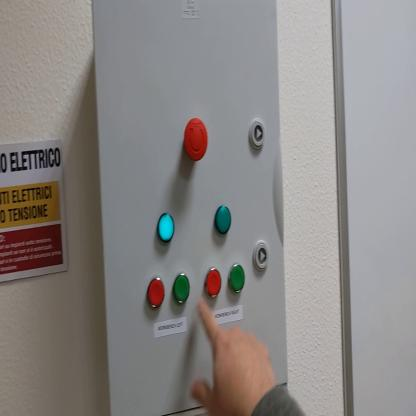hand: (192, 299, 276, 413)
left green button: (174, 274, 192, 307)
left red button: (146, 276, 167, 311)
right green button: (229, 263, 248, 294)
right red button: (203, 268, 223, 299)
